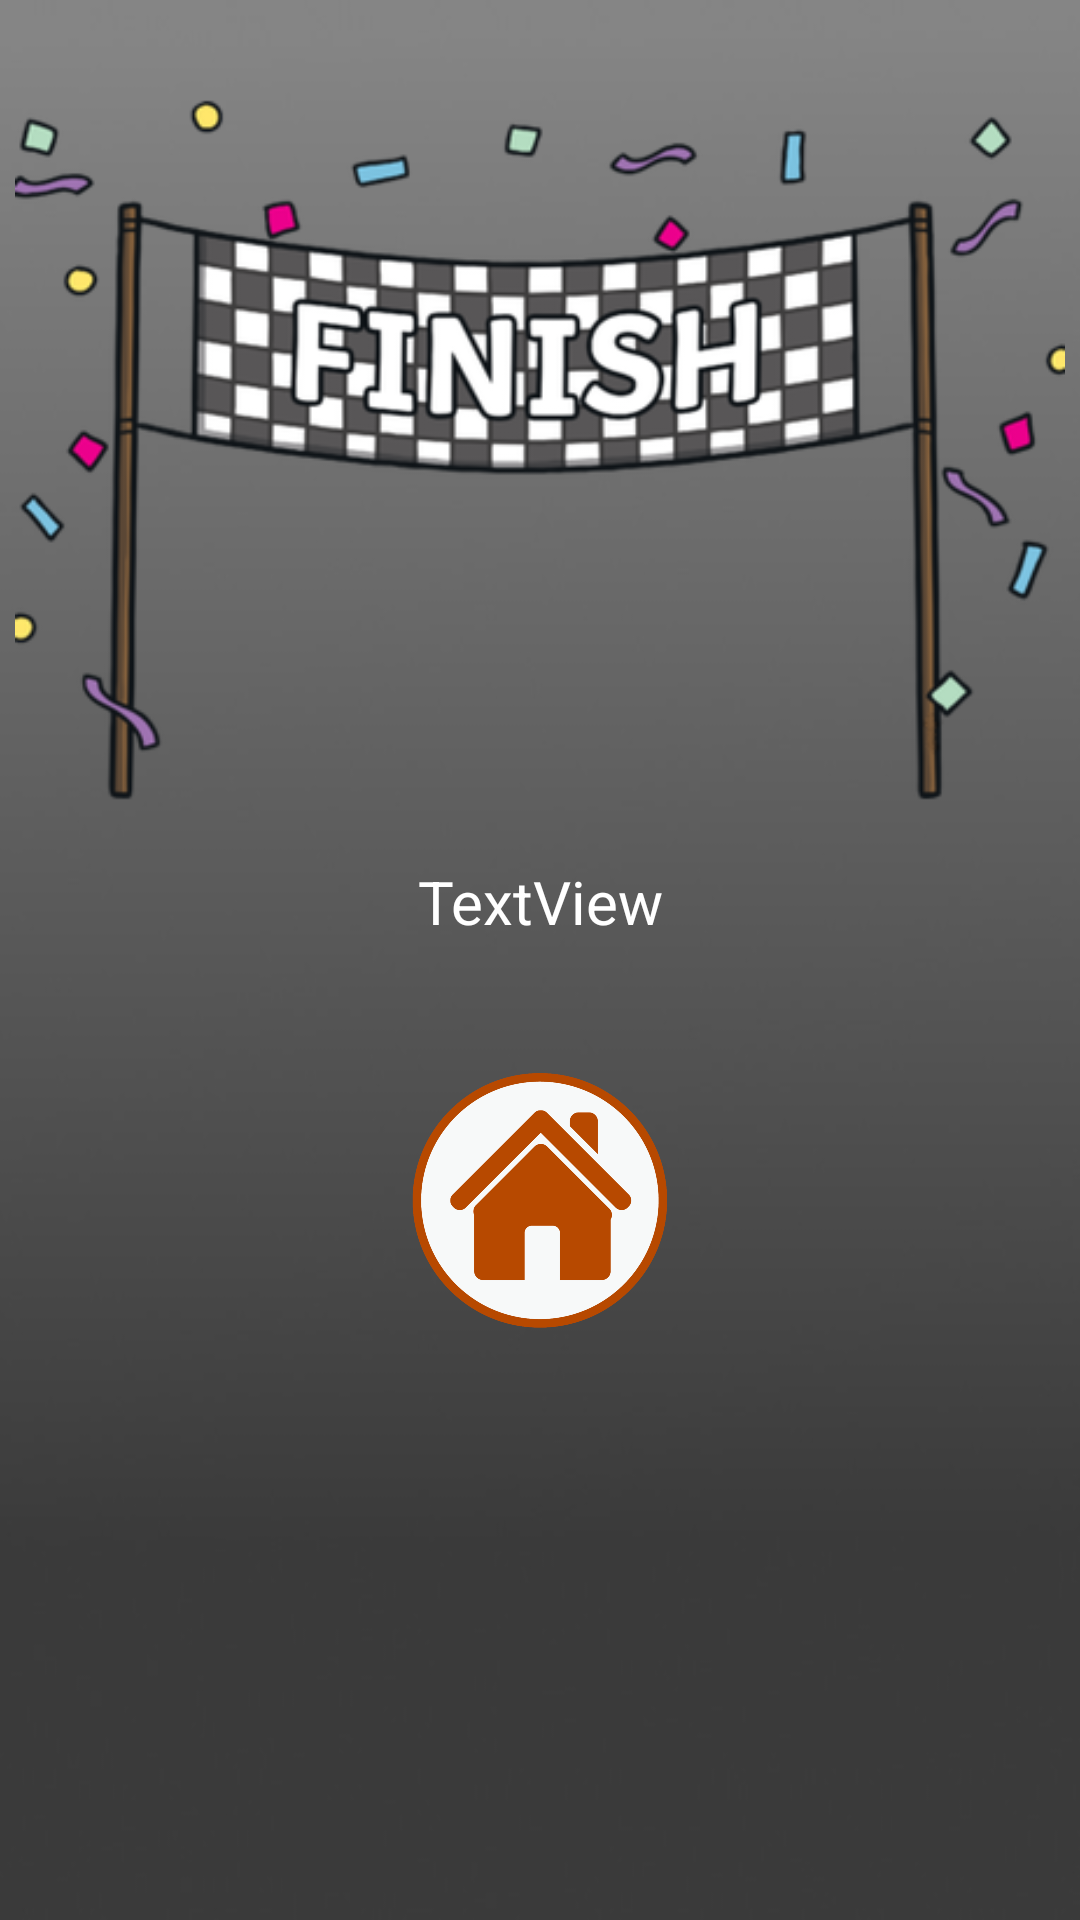

Where to tap for icons on this 1080px x 1920px app screen, as [x,y]:
home: [539,1200]
